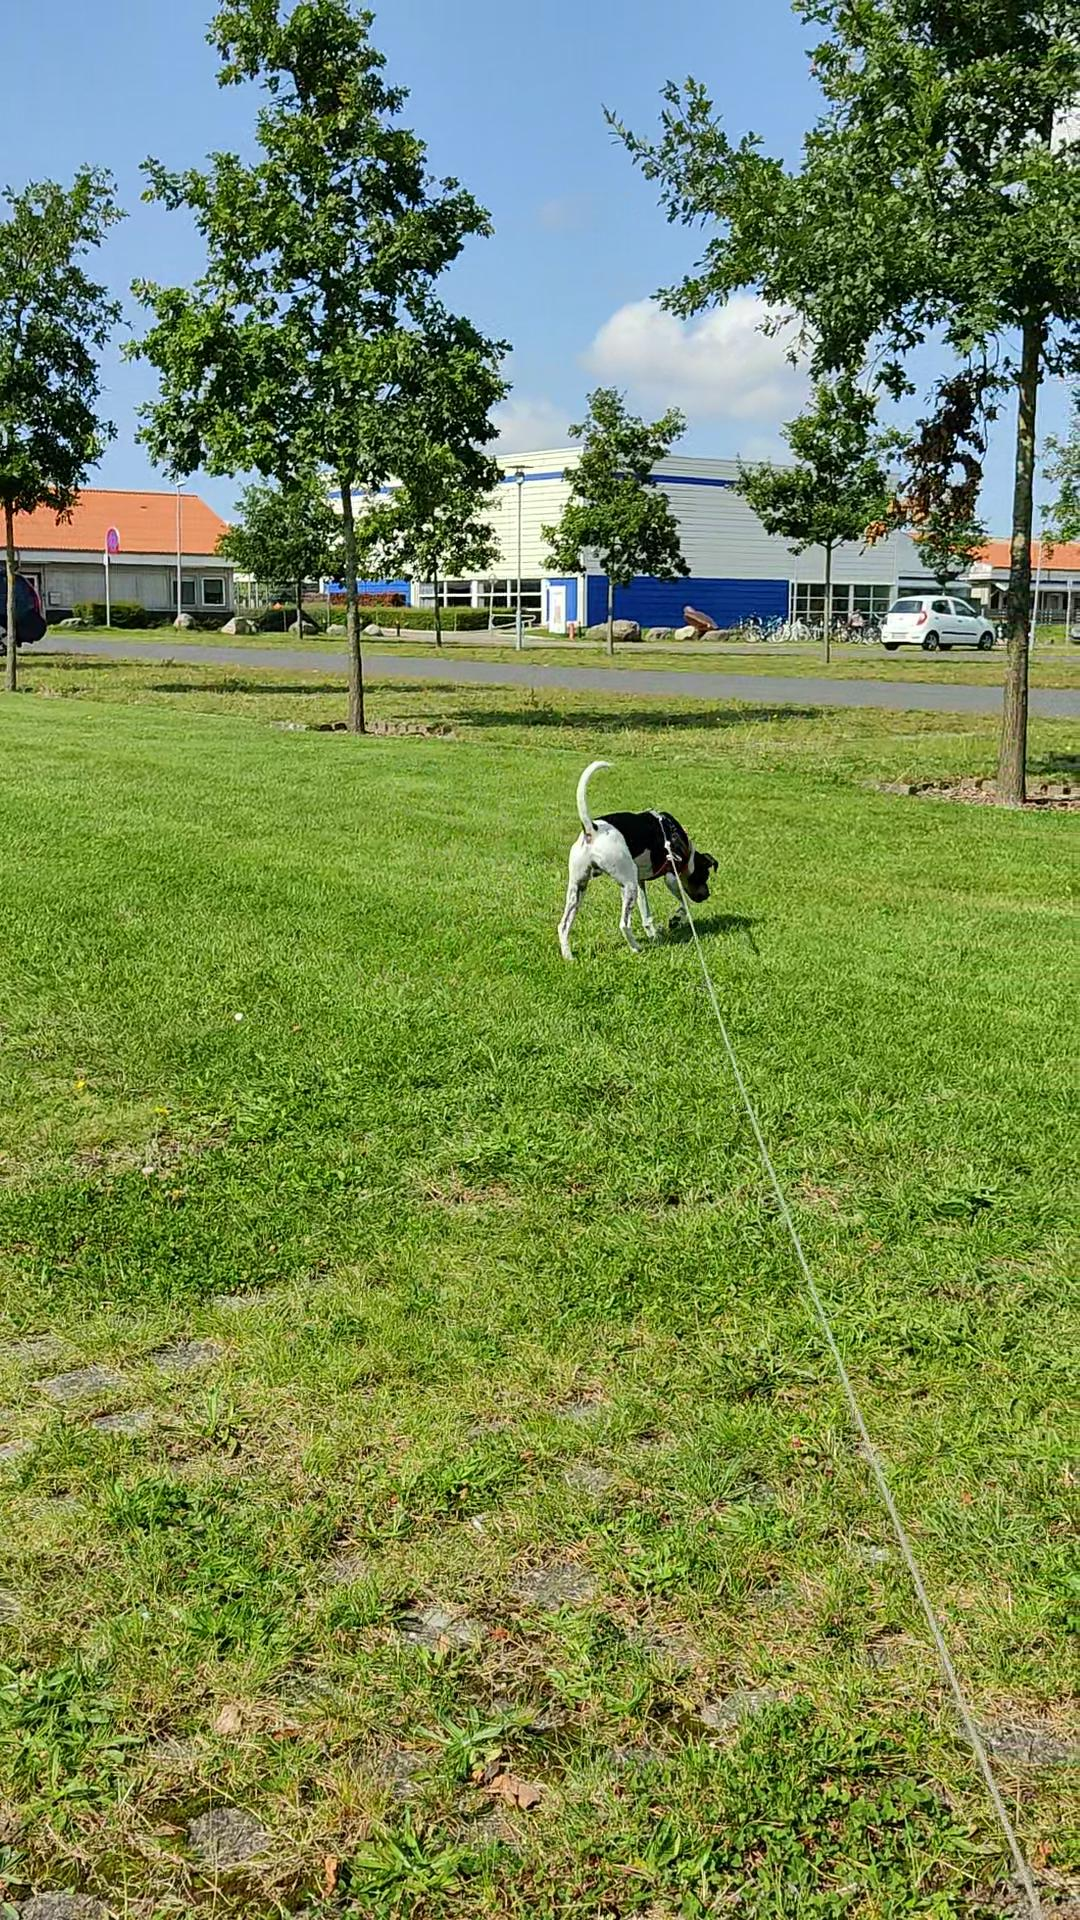Dog: (553, 757, 719, 964)
